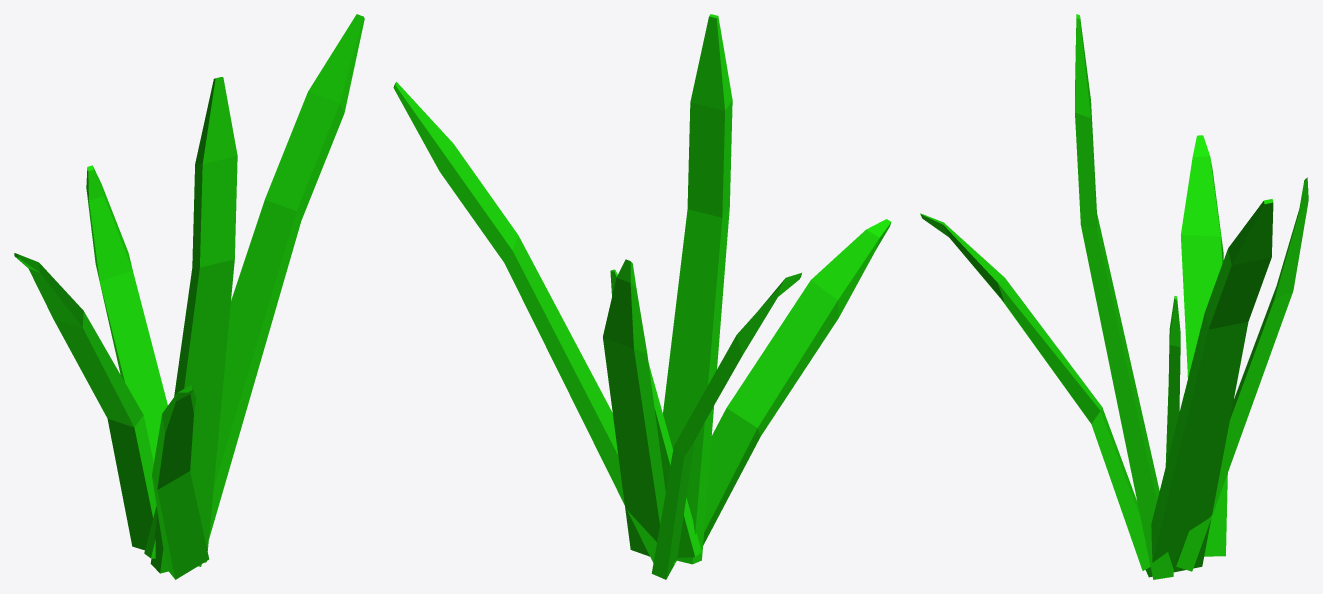
Rendered from grass2 1.fbx.
The picture shows the model from 3 angles, left to right: view 1: azimuth 30°, elevation 25°; view 2: azimuth 150°, elevation 25°; view 3: azimuth 270°, elevation 25°; orthographic projection. The views are drawn at different scales.
Visible parts, largest first — view 1: Grass 2; view 2: Grass 2; view 3: Grass 2.
Part boxes in pixels (bbox=[...]): Grass 2: bbox=[14, 14, 364, 579]; Grass 2: bbox=[393, 14, 891, 579]; Grass 2: bbox=[920, 14, 1308, 579].
Size of the model in its own units: 214 by 282 by 178.
